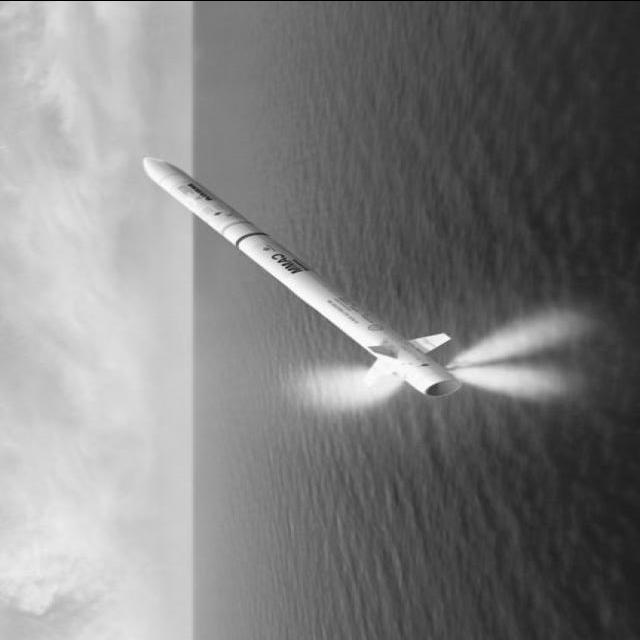Missile: (106, 148, 457, 404)
